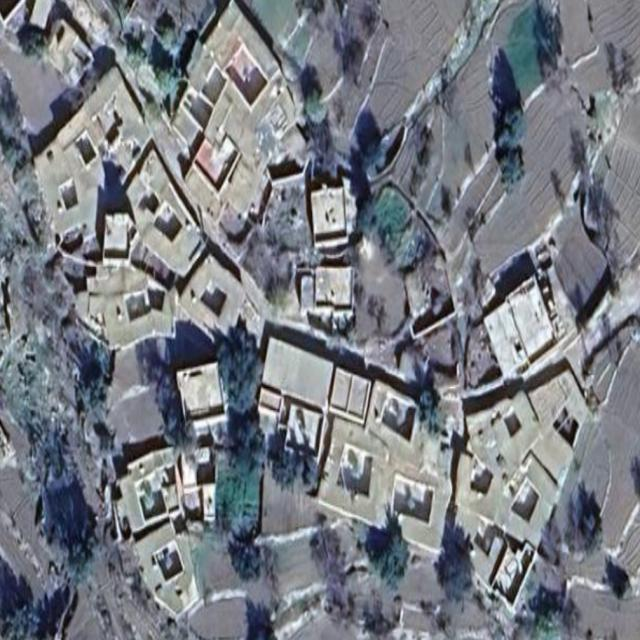Countryside roofs: (126, 144, 206, 293), (173, 110, 267, 233), (198, 0, 285, 126), (80, 243, 179, 349), (132, 516, 210, 632), (476, 258, 556, 369), (380, 454, 458, 566), (108, 444, 187, 546), (34, 142, 102, 257), (313, 427, 392, 525), (262, 314, 336, 410), (84, 56, 149, 165), (528, 368, 598, 466), (191, 250, 248, 366), (501, 444, 553, 568), (478, 373, 544, 466), (371, 367, 427, 461), (304, 174, 368, 255), (449, 449, 508, 532), (305, 255, 363, 333), (169, 364, 228, 434), (58, 106, 109, 186), (326, 374, 371, 424)
